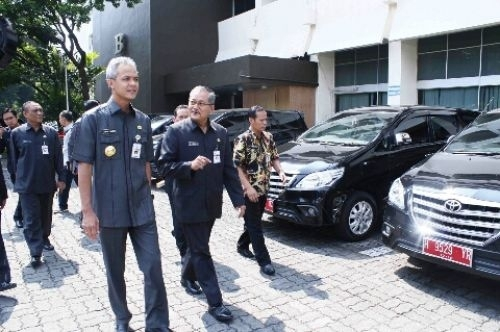plate: (424, 238, 472, 267)
